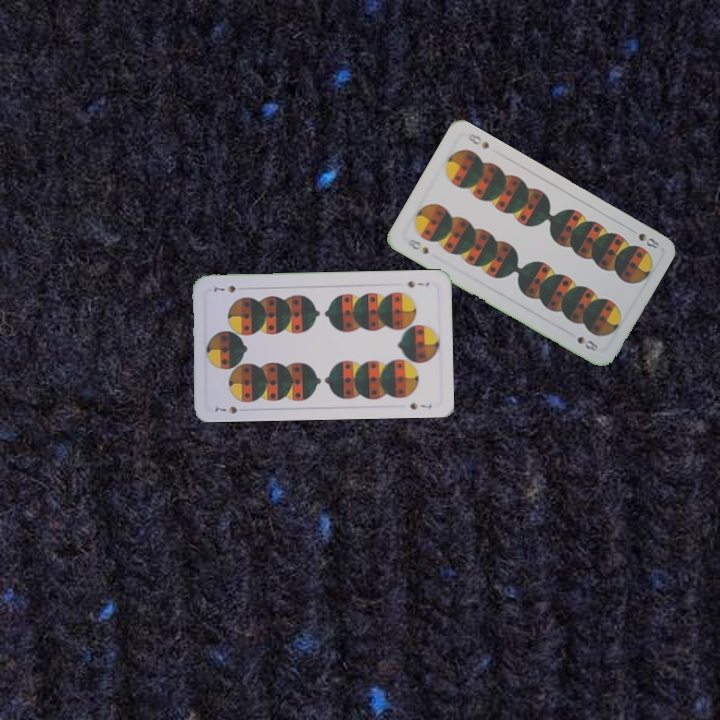S7: (210, 402, 240, 417), (403, 277, 431, 290)
S8: (403, 235, 431, 257), (634, 229, 662, 251)
